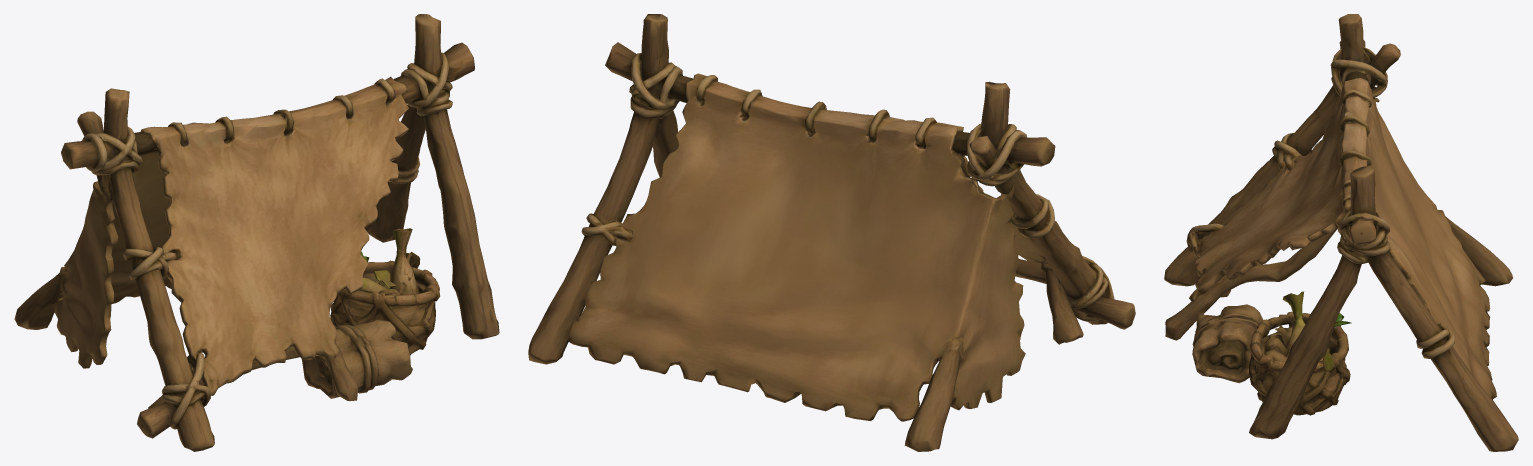
File: Foraging Tent (Western).fbx
3 views of the same model, side by side, from view 1: azimuth 30°, elevation 25°; view 2: azimuth 150°, elevation 25°; view 3: azimuth 270°, elevation 25° (orthographic). The views are drawn at different scales.
Parts seen in each view (by area): view 1: tripo_node_5f35daaf; view 2: tripo_node_5f35daaf; view 3: tripo_node_5f35daaf.
Boxes of the visible parts, x1=… form: tripo_node_5f35daaf: x1=14, y1=14, x2=499, y2=451; tripo_node_5f35daaf: x1=528, y1=14, x2=1135, y2=451; tripo_node_5f35daaf: x1=1164, y1=14, x2=1518, y2=451.
Bounding box in the file's own units: 1 × 0.67 × 0.785.
